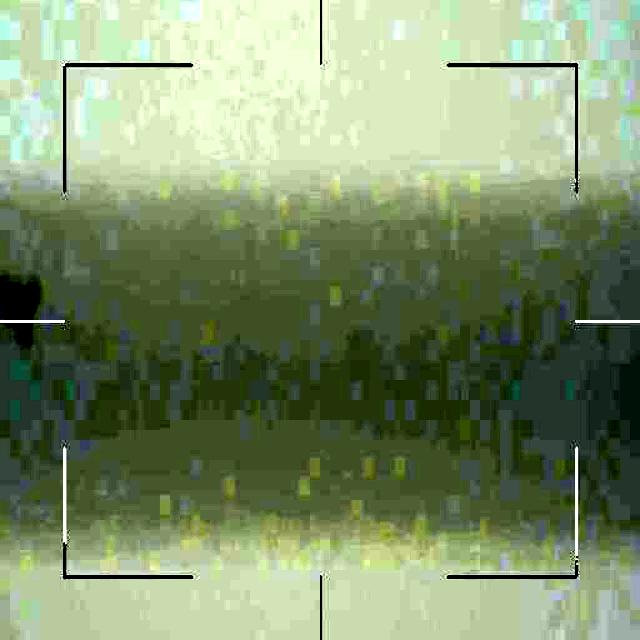bird: (0, 270, 51, 352)
